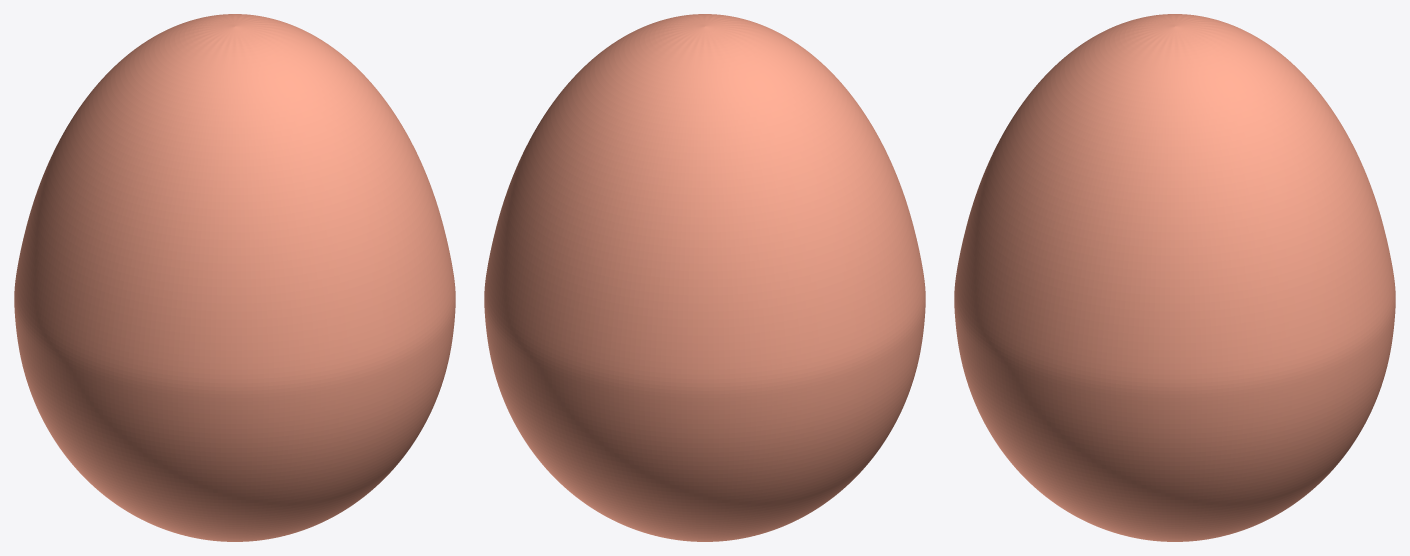
File: egg.fbx
3 renders of one model, left to right at view 1: azimuth 30°, elevation 25°; view 2: azimuth 150°, elevation 25°; view 3: azimuth 270°, elevation 25°, orthographic.
Parts seen in each view (by area): view 1: Egg.004; view 2: Egg.004; view 3: Egg.004.
Boxes of the visible parts, <box> form: Egg.004: <box>14,14,455,541</box>; Egg.004: <box>484,14,925,541</box>; Egg.004: <box>954,14,1395,541</box>.
Bounding box in the file's own units: 88.86 × 88.86 × 110.
